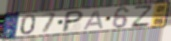0: (20, 13, 38, 36)
6: (112, 6, 131, 30)
7: (41, 12, 57, 35)
A: (82, 9, 105, 31)
P: (60, 10, 85, 34)
Z: (130, 5, 153, 29)
